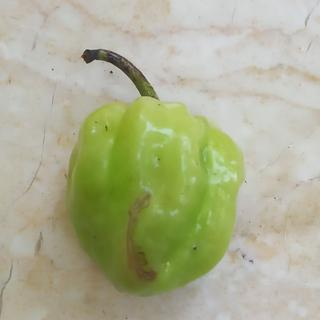Defect: (115, 187, 164, 288)
Fly-bites: (184, 237, 203, 256), (99, 120, 116, 138)
